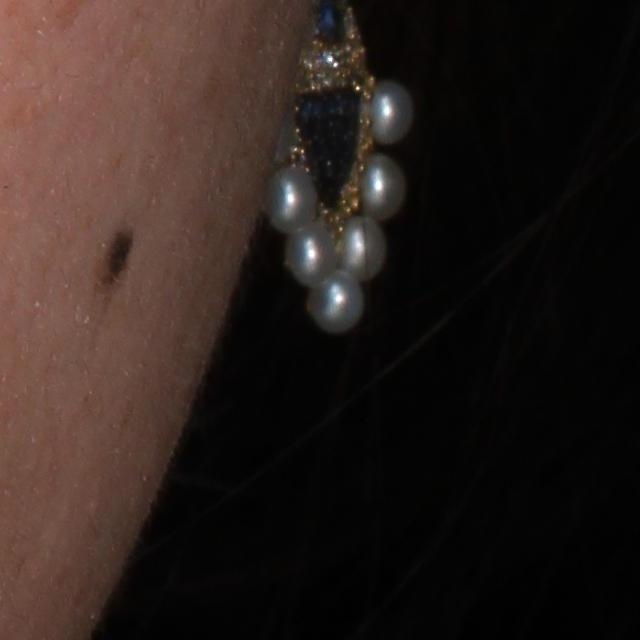nevus: (103, 223, 135, 286)
